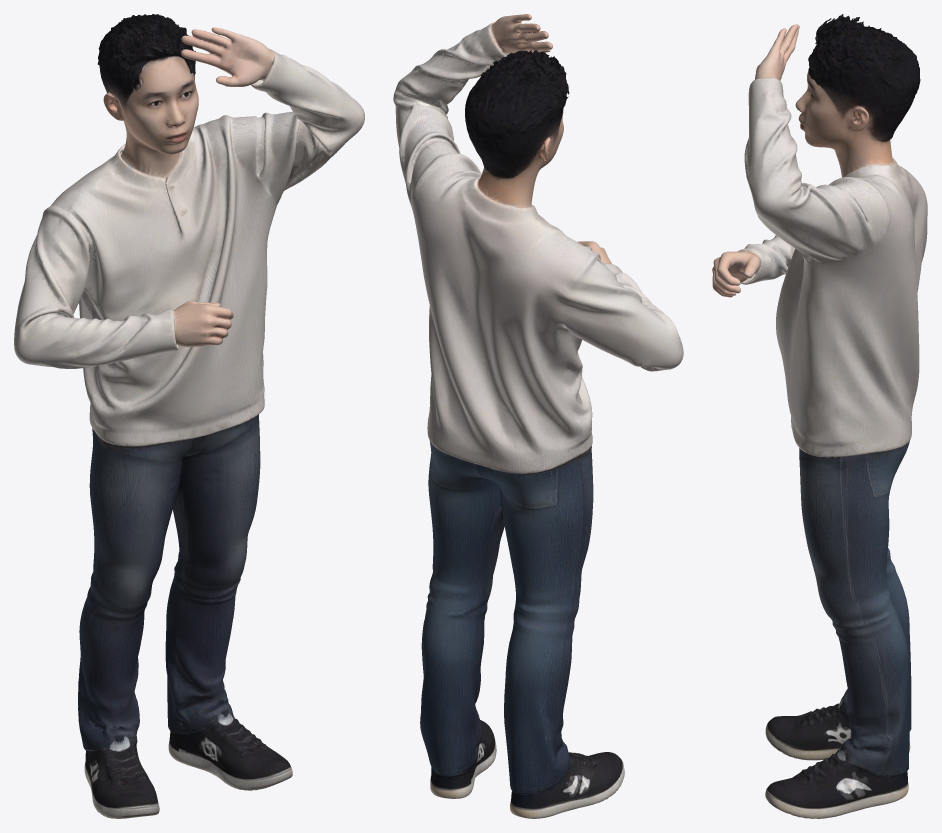
3 renders of one model, left to right at view 1: azimuth 30°, elevation 25°; view 2: azimuth 150°, elevation 25°; view 3: azimuth 270°, elevation 25°, orthographic. The views are drawn at different scales.
Size of the model in its own units: 0.8171 by 1.9 by 0.4905.
1 material, 1 textured.
